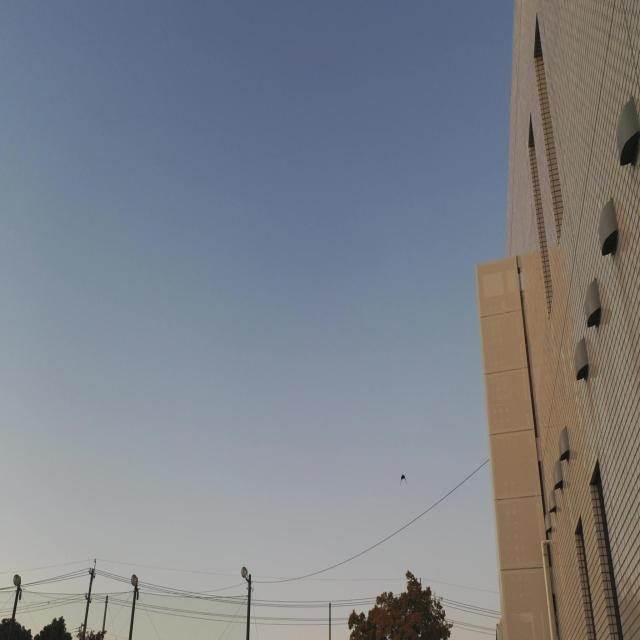Birds: (396, 472, 408, 482)
